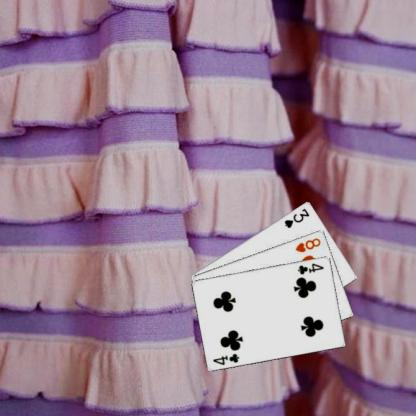3S: (282, 206, 310, 229)
4C: (210, 350, 241, 366), (296, 260, 326, 276)
8H: (292, 235, 322, 253)
